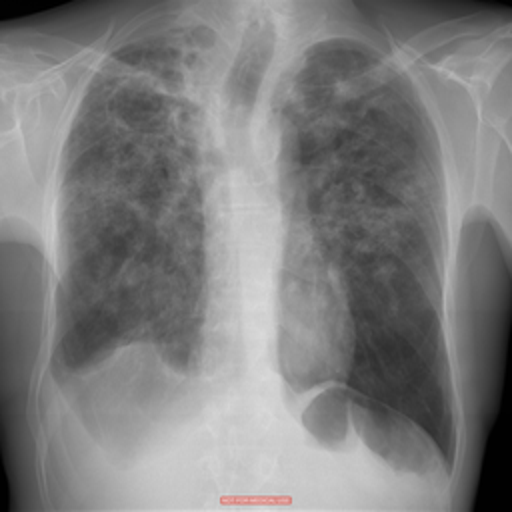TB: (319, 77, 414, 261), (119, 44, 205, 244)
